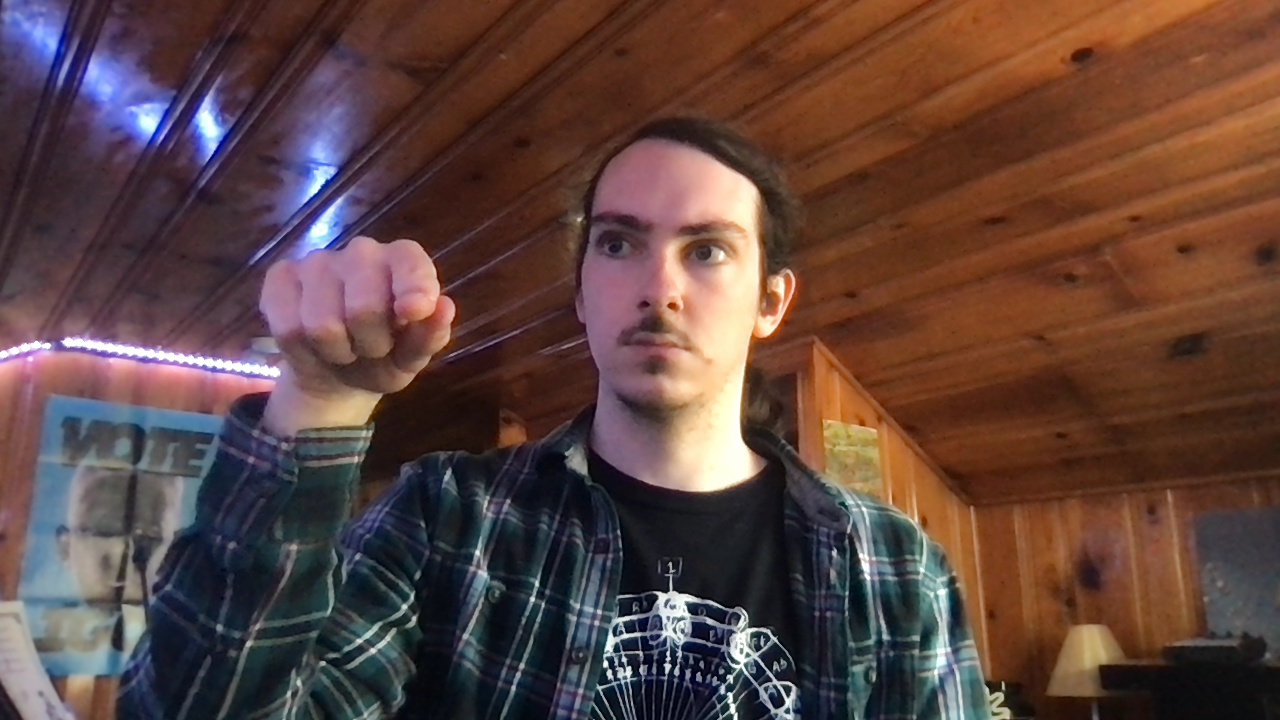q: (258, 235, 456, 395)
